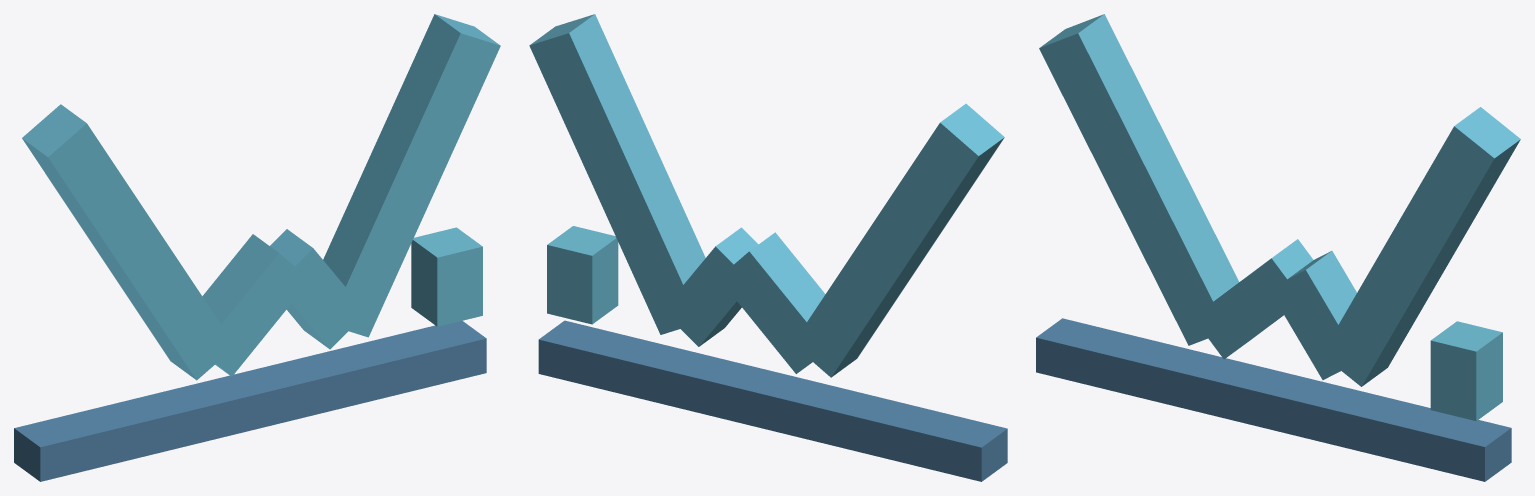
File: tailwind-icon.glb
3 renders of one model, left to right at view 1: azimuth 30°, elevation 25°; view 2: azimuth 150°, elevation 25°; view 3: azimuth 330°, elevation 25°, orthographic.
Parts seen in each view (by area): view 1: m5, m3, m0, m1, m4, m2; view 2: m5, m3, m0, m1, m4, m2; view 3: m5, m0, m3, m4, m1, m2.
Boxes of the visible parts, <box> form: m5: <box>14,321,486,481</box>; m3: <box>323,14,500,337</box>; m0: <box>22,104,220,380</box>; m1: <box>201,234,309,376</box>; m4: <box>411,227,482,326</box>; m2: <box>270,229,366,349</box>; m5: <box>538,320,1007,481</box>; m3: <box>529,14,705,334</box>; m0: <box>792,103,1004,377</box>; m1: <box>719,232,825,373</box>; m4: <box>547,226,618,324</box>; m2: <box>662,227,758,346</box>; m5: <box>1036,318,1511,481</box>; m0: <box>1039,14,1238,345</box>; m3: <box>1338,107,1520,386</box>; m4: <box>1430,321,1502,421</box>; m1: <box>1193,239,1313,359</box>; m2: <box>1284,251,1359,379</box>.
Size of the model in its own units: 5.54 by 4.04 by 0.6.
